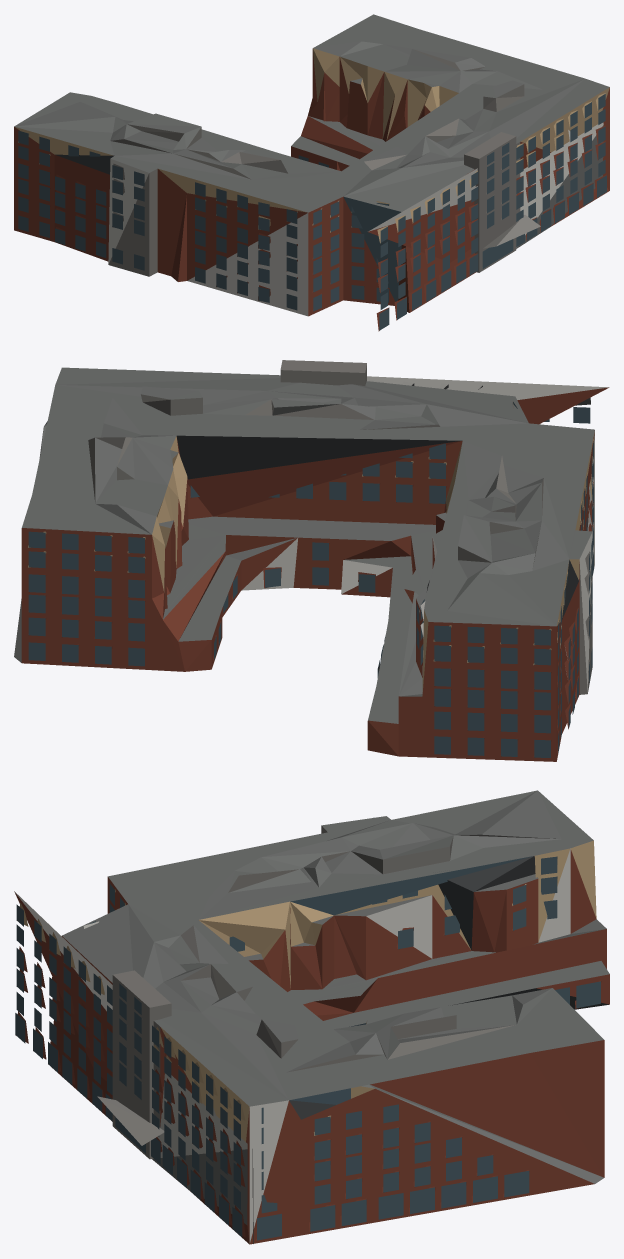
Rendered from de-makroon.lod2.glb.
3 views of the same model, one above another, from view 1: azimuth 30°, elevation 25°; view 2: azimuth 150°, elevation 25°; view 3: azimuth 270°, elevation 25° (orthographic). The views are drawn at different scales.
Parts seen in each view (by area): view 1: lod2; view 2: lod2; view 3: lod2.
Boxes of the visible parts, x1,y1,x2,y2 form: lod2: (14, 14, 609, 331); lod2: (14, 360, 609, 761); lod2: (14, 790, 609, 1244).
Bounding box in the file's own units: 105 × 23.82 × 83.38.
